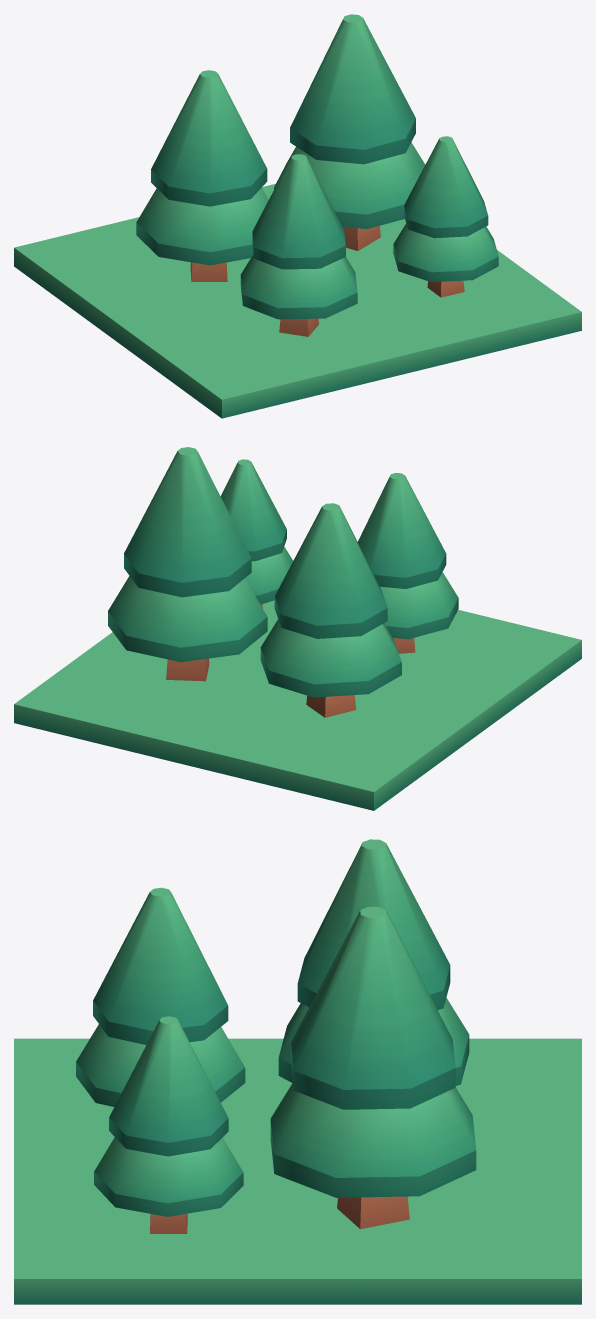
Rendered from grass-trees.glb.
3 renders of one model, top to bottom at view 1: azimuth 30°, elevation 25°; view 2: azimuth 150°, elevation 25°; view 3: azimuth 270°, elevation 25°, orthographic. The views are drawn at different scales.
Parts seen in each view (by area): view 1: grass-trees; view 2: grass-trees; view 3: grass-trees.
Part boxes in pixels (bbox=[...]): grass-trees: bbox=[14, 14, 581, 418]; grass-trees: bbox=[14, 447, 581, 810]; grass-trees: bbox=[14, 839, 581, 1304].
Size of the model in its own units: 1 by 0.6359 by 1.
Materials: 1 (1 with a texture image).
